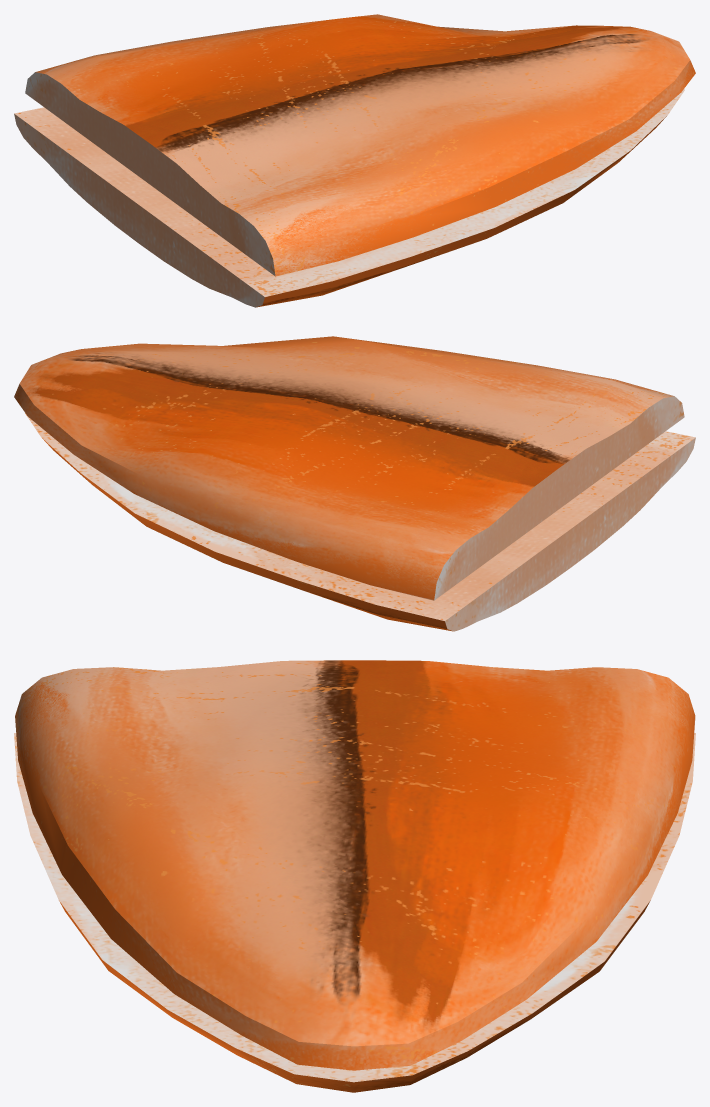
Rendered from ekmek_yarim_basilmis.fbx.
The picture shows the model from 3 angles, top to bottom: view 1: azimuth 30°, elevation 25°; view 2: azimuth 150°, elevation 25°; view 3: azimuth 270°, elevation 25°; orthographic projection. The views are drawn at different scales.
Visible parts, largest first — view 1: Sphere.006, Sphere.007; view 2: Sphere.006, Sphere.007; view 3: Sphere.006, Sphere.007.
Part boxes in pixels (<box>): Sphere.006: <box>25,14,695,276</box>; Sphere.007: <box>14,89,684,307</box>; Sphere.006: <box>14,336,684,600</box>; Sphere.007: <box>25,413,695,631</box>; Sphere.006: <box>15,660,695,1070</box>; Sphere.007: <box>14,733,695,1092</box>.
Bounding box in the file's own units: 148 × 28.33 × 118.
